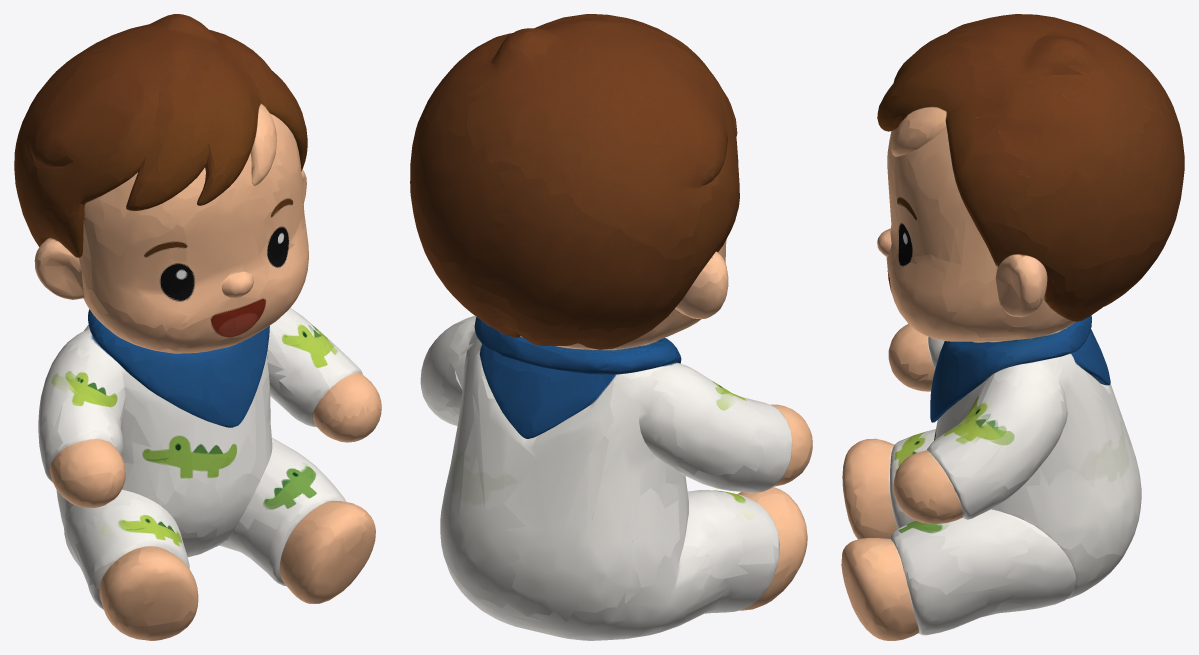
3 renders of one model, left to right at view 1: azimuth 30°, elevation 25°; view 2: azimuth 150°, elevation 25°; view 3: azimuth 270°, elevation 25°, orthographic. The views are drawn at different scales.
Bounding box in the file's own units: 1.19 × 1.9 × 1.05.
Materials: 1 (1 with a texture image).
